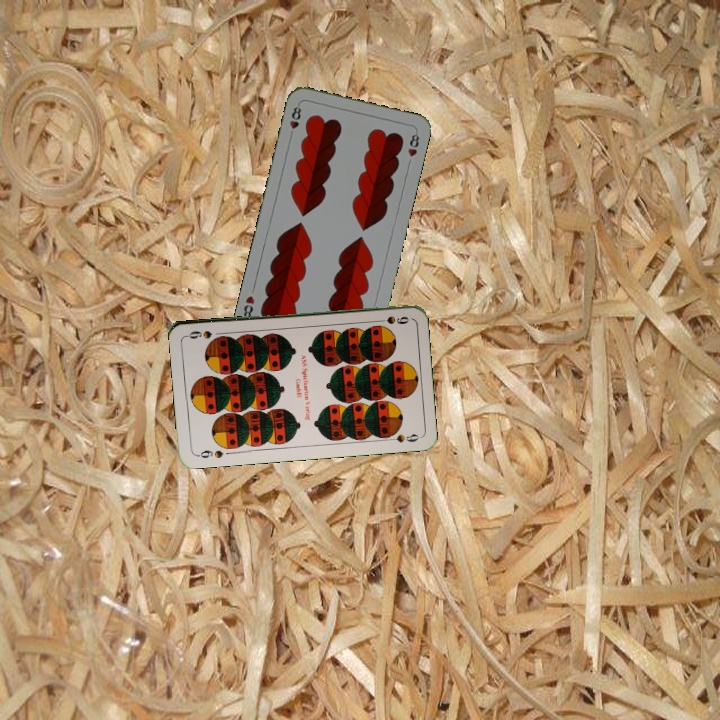H8: (286, 100, 304, 140)
S9: (371, 312, 412, 327), (193, 446, 226, 461)
